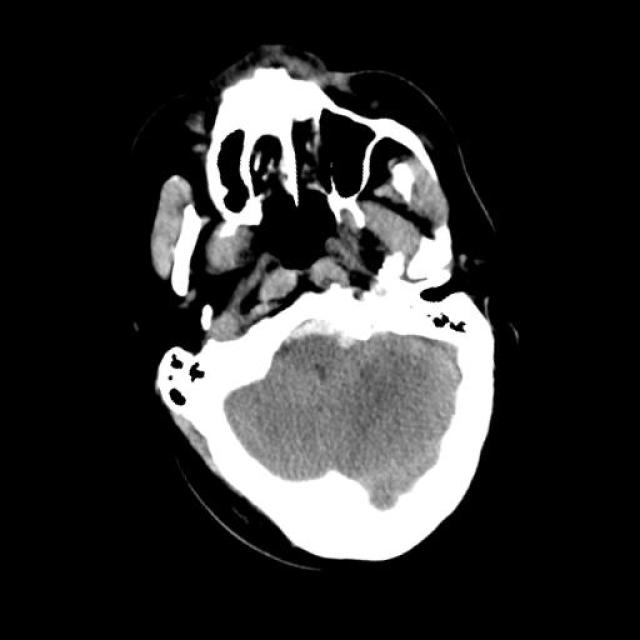Subdural: (254, 304, 355, 367)
